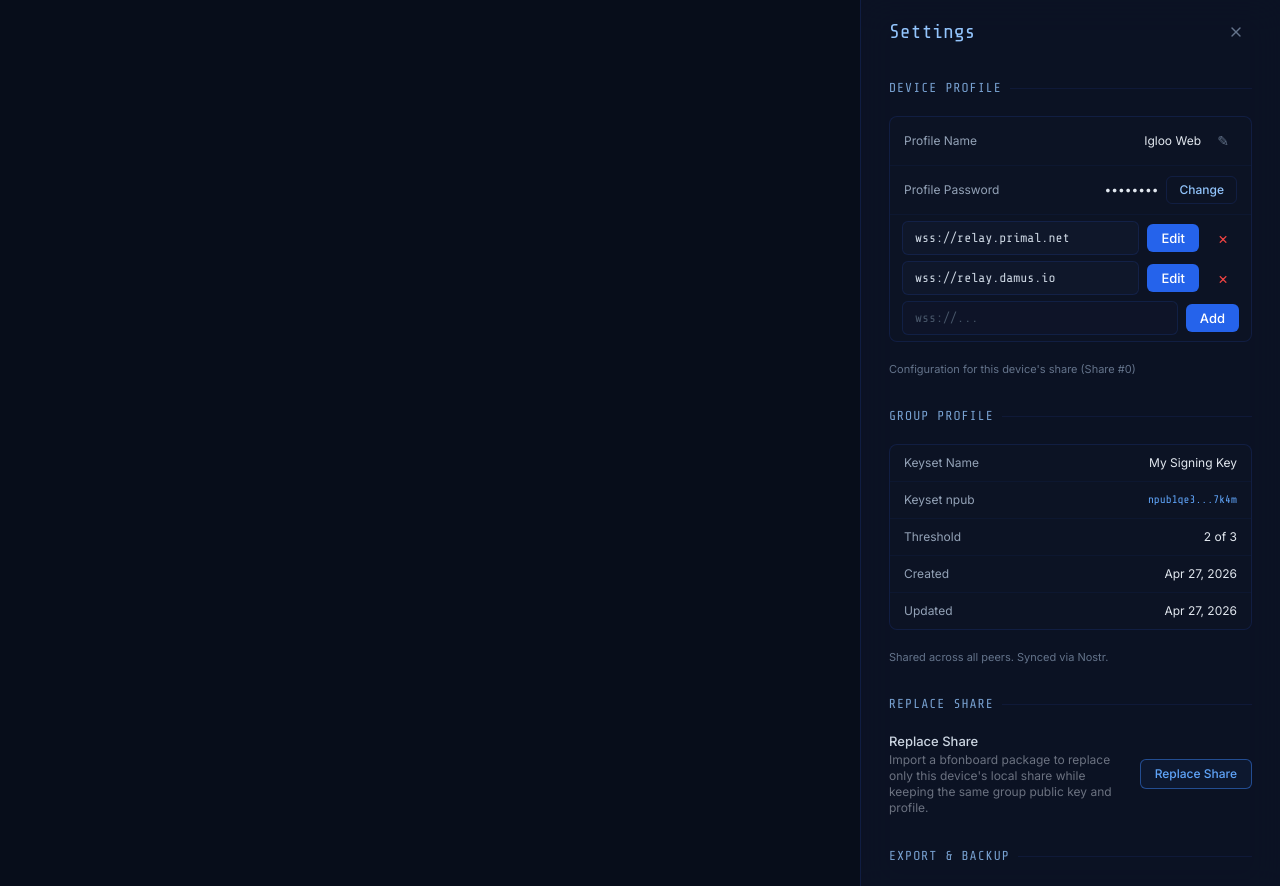
Test: SettingsSidebar — Profile Name edit (VAL-SETTINGS-001/002/024/025) › surfaces an inline error when updateProfileName rejects
The width and height of the screenshot is (1280, 886).
Click the button named "Edit profile name". click: click(1223, 141)
box: [1209,127,1237,155]
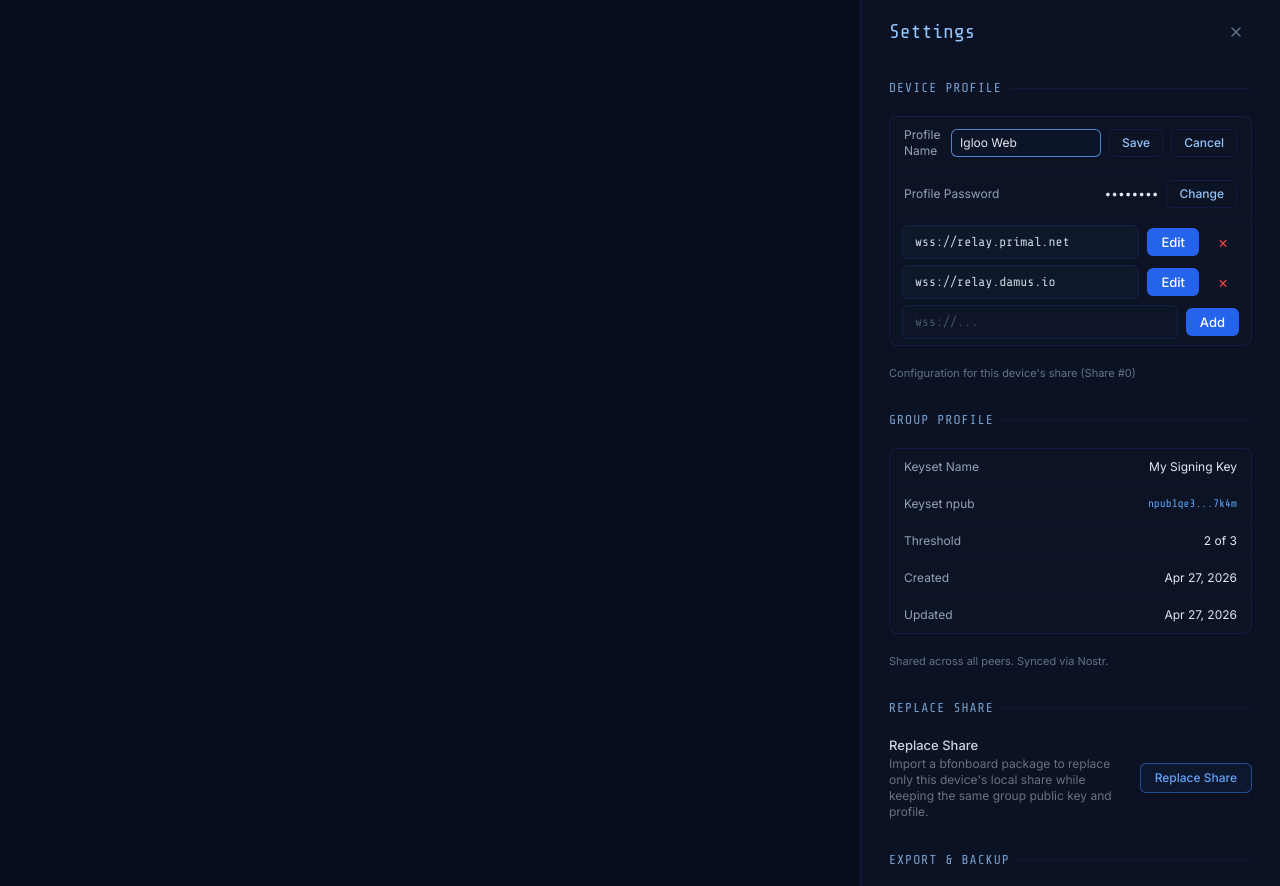
Replace the text in the field named "Profile Name" with "Valid Name". click: (1026, 143)
box: [951,129,1101,157]
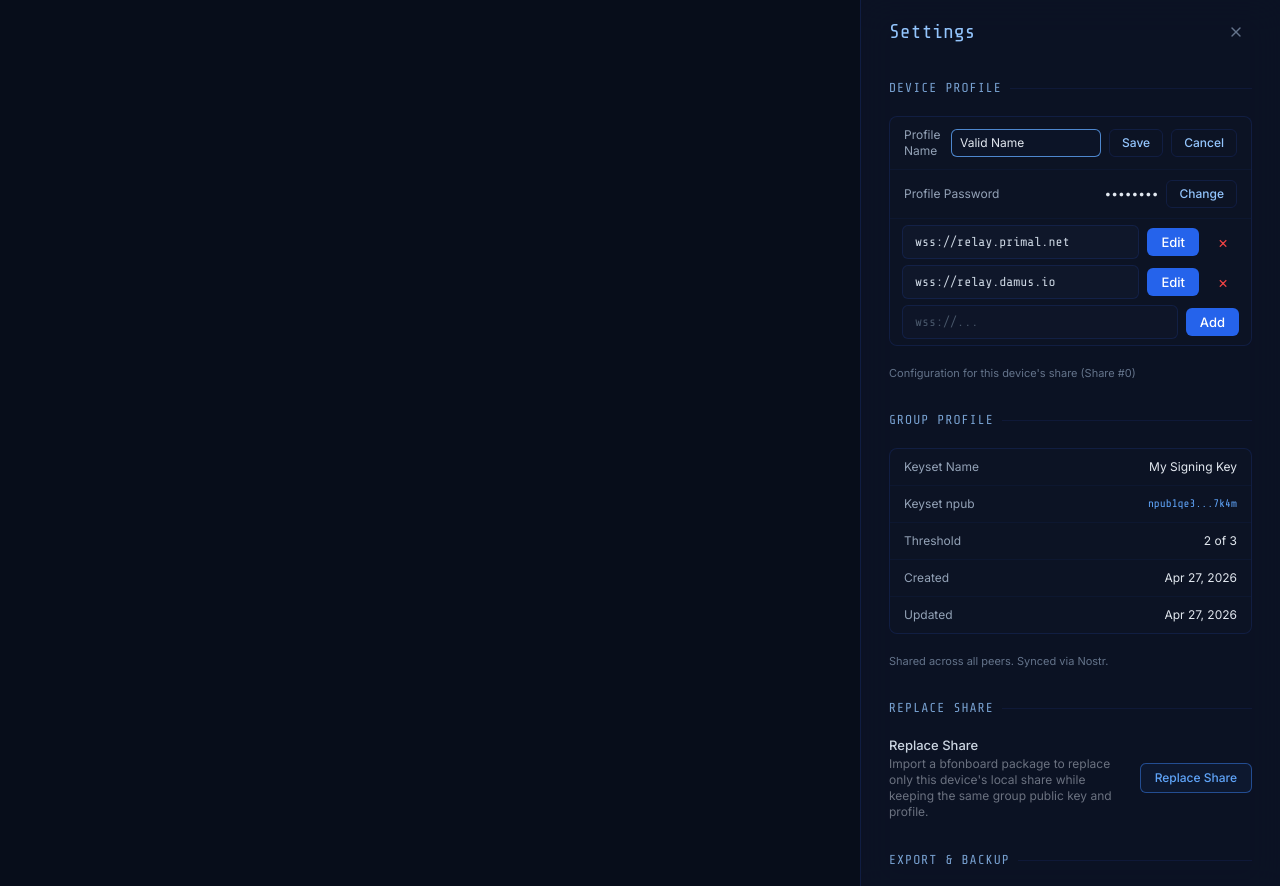
Click the button with aria-label "save profile name". click: click(1136, 143)
box: [1109,129,1163,157]
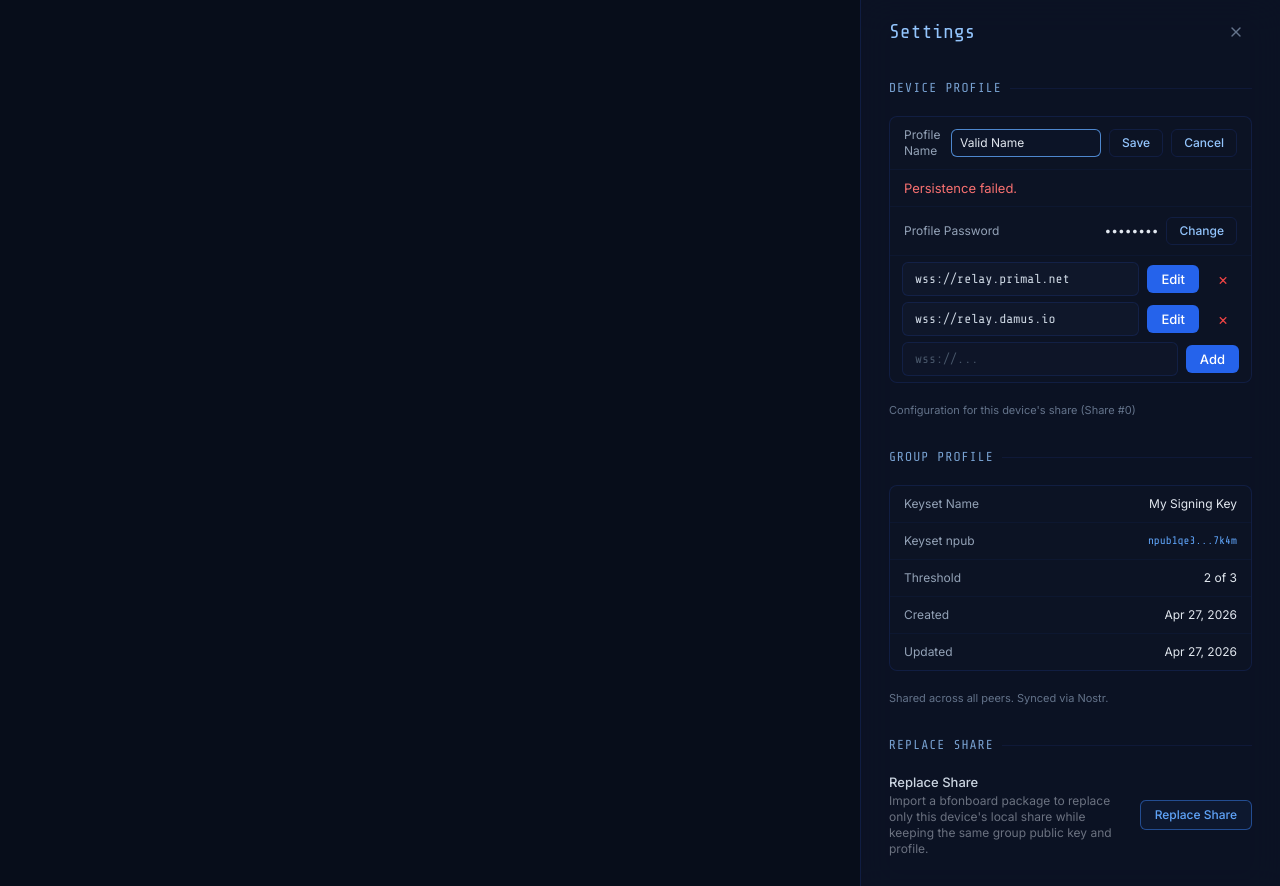
Result: the text "Persistence failed." is shown at [904,180,1017,196]
